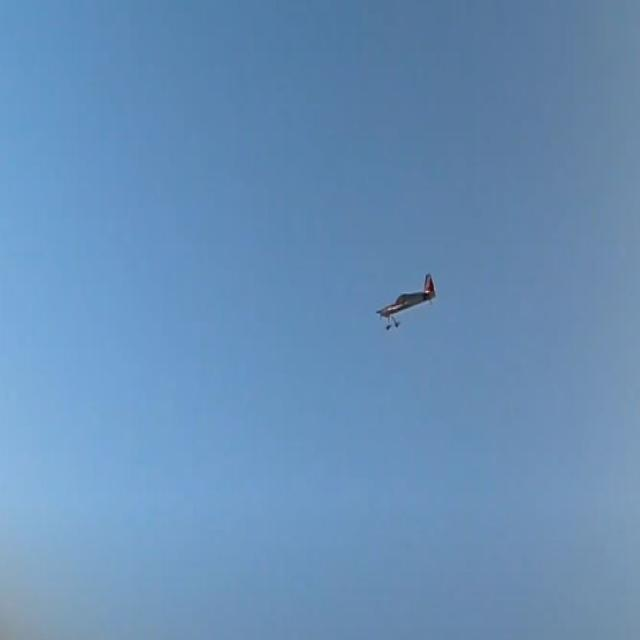iha: (375, 271, 438, 331)
